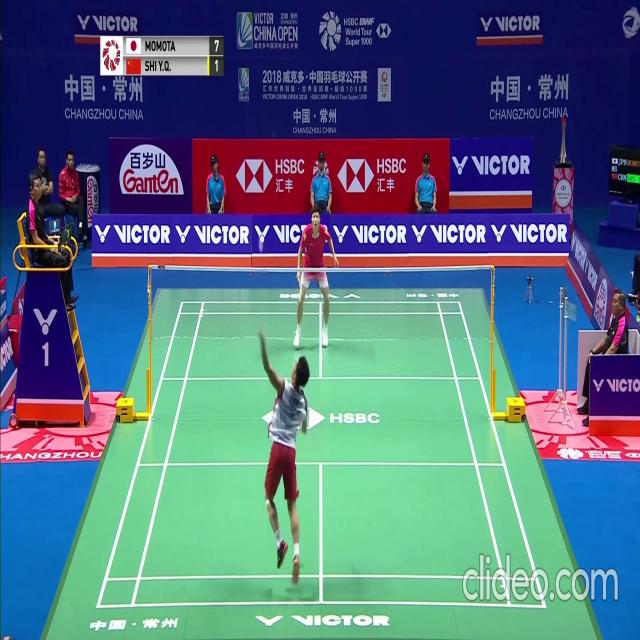Shuttlecock: (258, 246, 263, 253)
